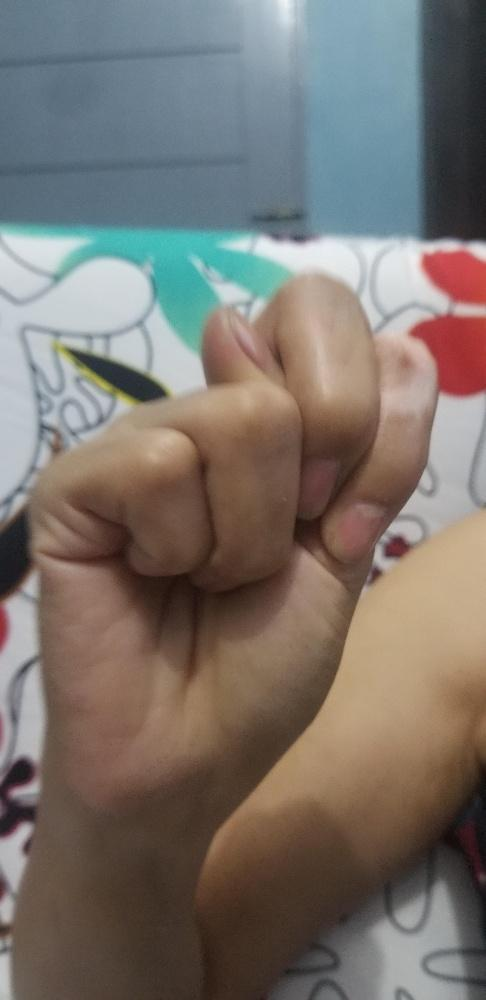n: (25, 271, 440, 804)
